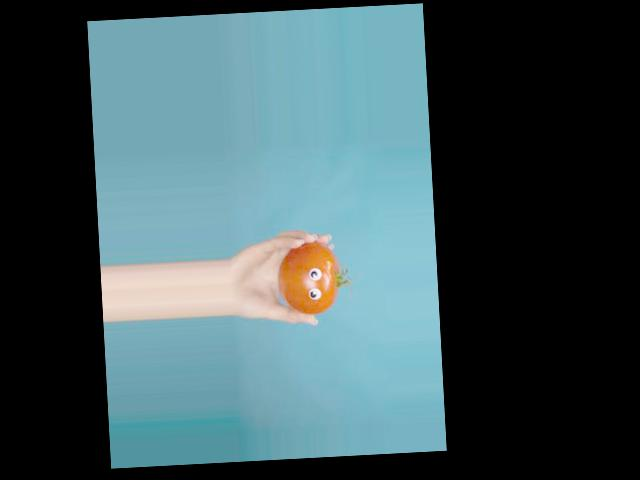tomato: (275, 240, 342, 317)
